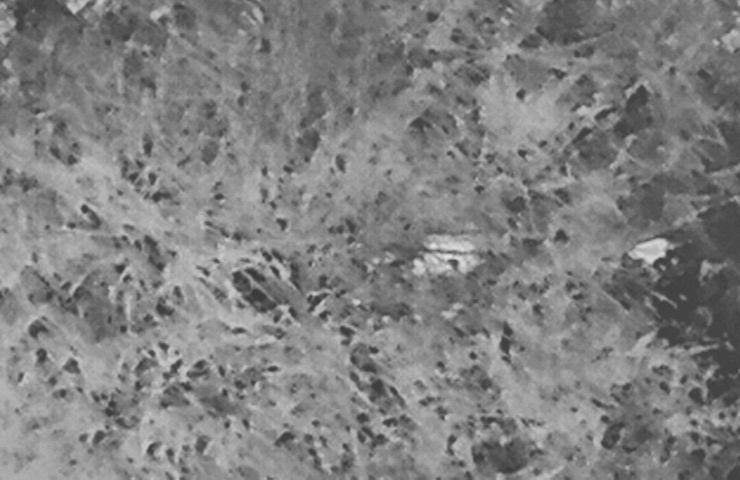landmines: (408, 224, 508, 318)
